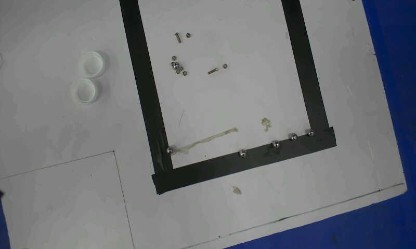ironball: (271, 139, 279, 149), (238, 149, 246, 158), (165, 146, 173, 154), (307, 128, 315, 136), (170, 61, 178, 69), (290, 132, 296, 141)
